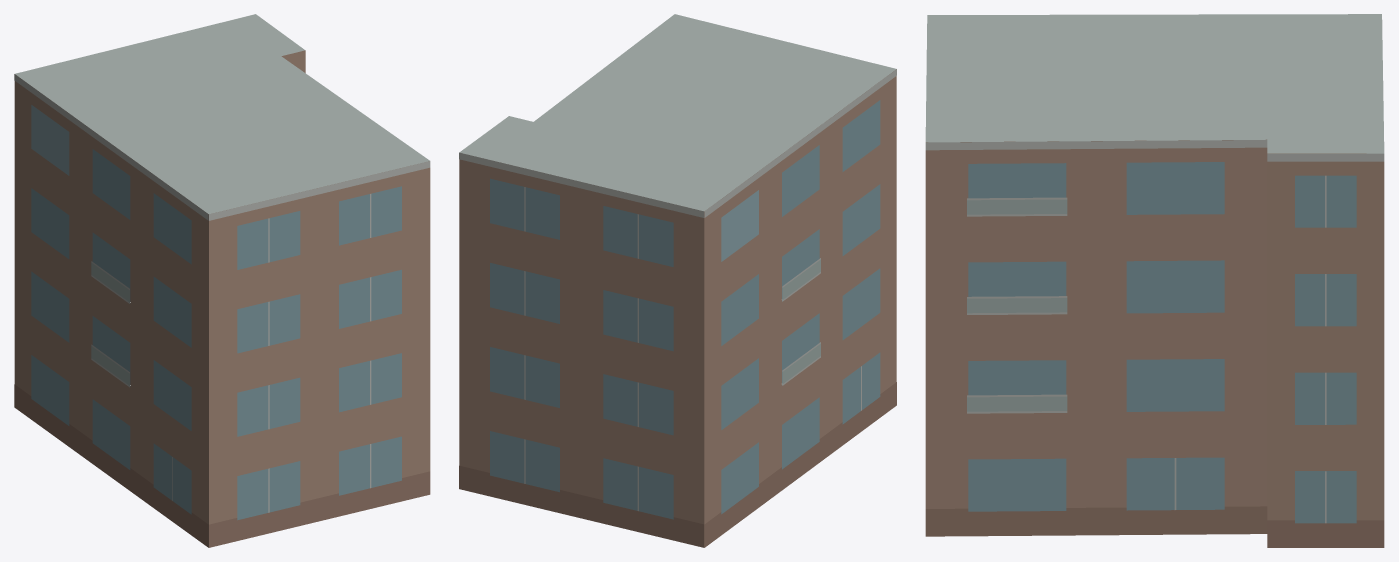
The model's file is survey-upis-32669299.glb.
3 views of the same model, side by side, from view 1: azimuth 30°, elevation 25°; view 2: azimuth 150°, elevation 25°; view 3: azimuth 270°, elevation 25° (orthographic). The views are drawn at different scales.
Visible parts, largest first — view 1: survey-upis-32669299.tmp; view 2: survey-upis-32669299.tmp; view 3: survey-upis-32669299.tmp.
Part boxes in pixels (x1,y1,x2,y2): survey-upis-32669299.tmp: (14,14,430,547); survey-upis-32669299.tmp: (459,14,896,547); survey-upis-32669299.tmp: (925,14,1384,547).
Bounding box in the file's own units: 9.29 × 12.2 × 12.88.
